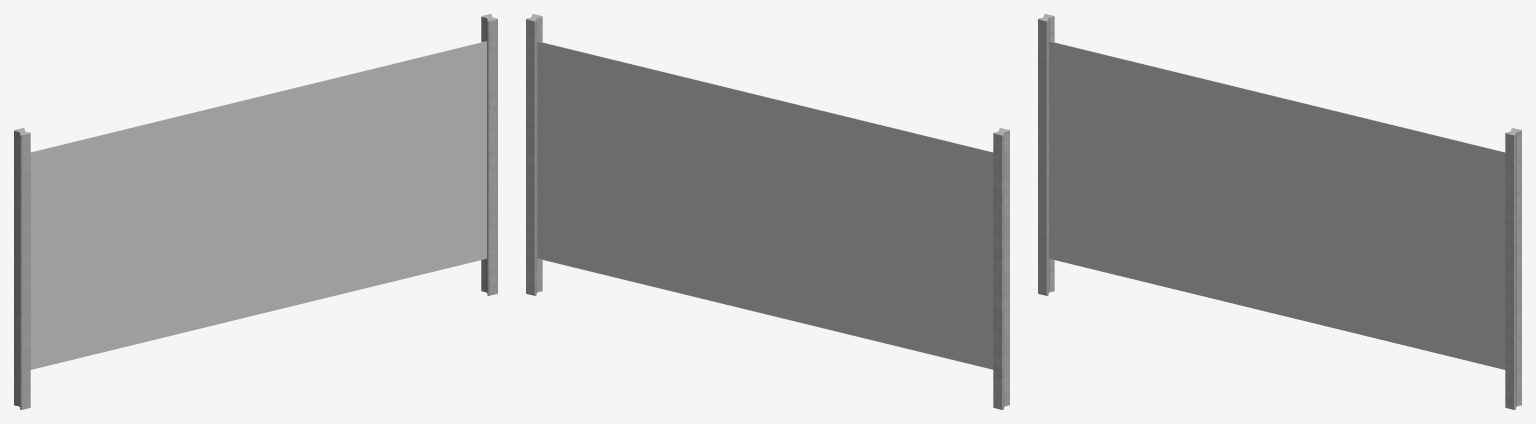
Rendered from ULT2_Display_Board.FBX.
3 views of the same model, side by side, from view 1: azimuth 30°, elevation 25°; view 2: azimuth 150°, elevation 25°; view 3: azimuth 330°, elevation 25° (orthographic).
Parts seen in each view (by area): view 1: ULT2_Display_Board; view 2: ULT2_Display_Board; view 3: ULT2_Display_Board.
Boxes of the visible parts, bbox=[...] form: ULT2_Display_Board: bbox=[14, 14, 497, 409]; ULT2_Display_Board: bbox=[526, 14, 1009, 409]; ULT2_Display_Board: bbox=[1038, 14, 1521, 409].
Bounding box in the file's own units: 12362 × 6792 × 333.
Materials: 2 (1 with a texture image).
